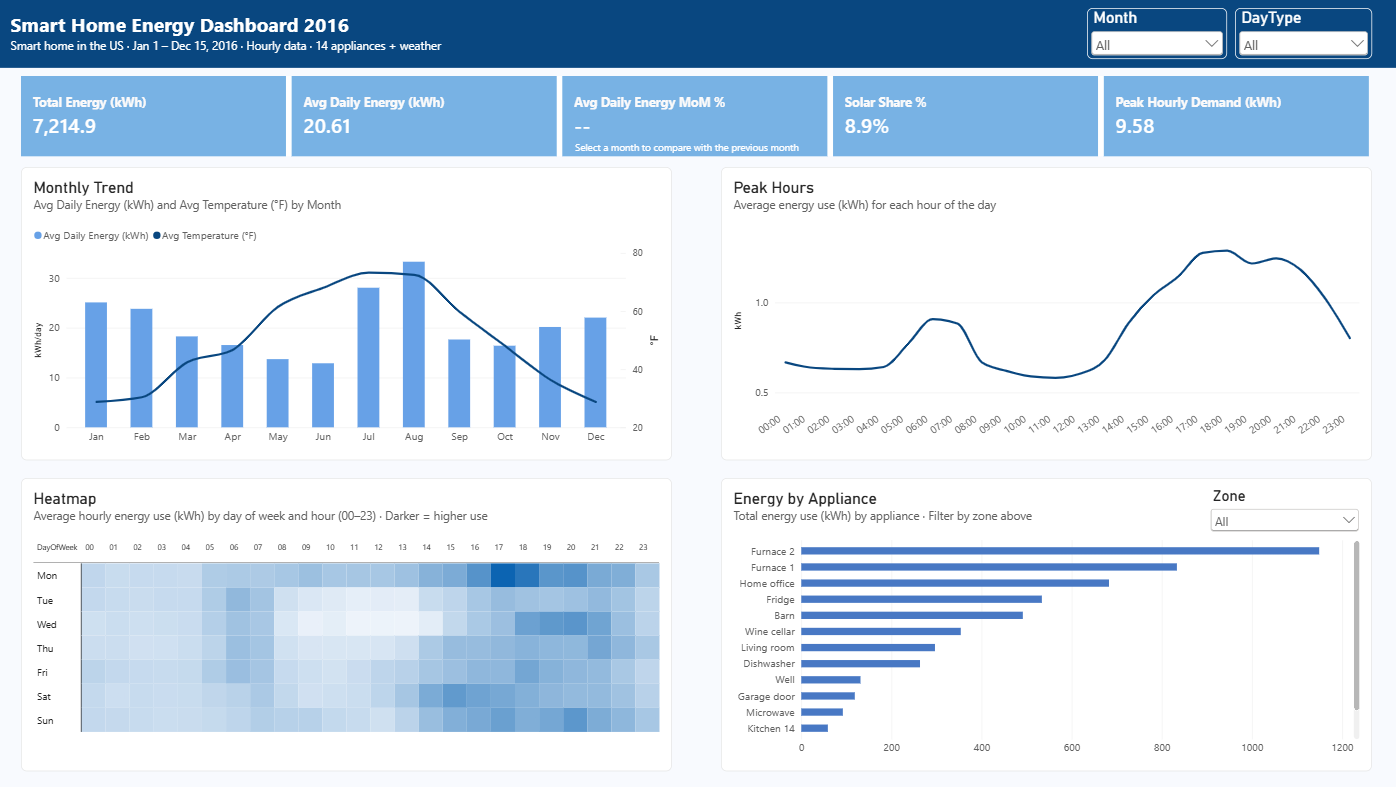

This screenshot's page, from the dashboard's own definition file:
{"tool":"powerbi","page":{"name":"Page 1","canvas":[1920,1080],"ordinal":0},"visuals":[{"type":"cardVisual","fields":{"Data":["_Measures.Total Energy (kWh)","_Measures.Avg Daily Energy (kWh)","_Measures.Avg Daily Energy MoM %","_Measures.Solar Share %","_Measures.Peak Hourly Demand (kWh)"]},"box":[34.3,104.3,1851.5,110.6],"z":0},{"type":"lineClusteredColumnComboChart","title":"Monthly Trend","fields":{"Category":["Dim_Date.Month"],"Y":["_Measures.Avg Daily Energy (kWh)"],"Y2":["_Measures.Avg Temperature (°F)"]},"box":[34.3,228.9,892.3,401.8],"z":1000},{"type":"lineChart","title":"Peak Hours","fields":{"Category":["Dim_Hour.HourLabel"],"Y":["_Measures.Avg Hourly Energy (kWh)"]},"box":[993.5,228.9,892.3,401.8],"z":2000},{"type":"pivotTable","title":"Heatmap","fields":{"Columns":["Dim_Hour.HourShort"],"Rows":["Dim_Date.DayOfWeek"],"Values":["_Measures.Avg Hourly Energy (kWh)"]},"box":[34.3,655.6,892.3,401.8],"z":3000},{"type":"clusteredBarChart","title":"Energy by Appliance","fields":{"Category":["Dim_Appliance.Appliance"],"Y":["_Measures.Appliance Energy (kWh)"]},"box":[993.5,655.6,892.3,401.8],"z":4000},{"type":"slicer","fields":{"Values":["Dim_Appliance.Zone"]},"box":[1660,668,213.3,79.4],"z":5000},{"type":"textbox","box":[0,0,1920,93.4],"z":6000},{"type":"slicer","fields":{"Values":["Dim_Date.Month"]},"box":[1494.9,10.9,191.5,70.1],"z":7000},{"type":"slicer","fields":{"Values":["Dim_Date.DayType"]},"box":[1697.3,10.9,188.4,70.1],"z":8000},{"type":"textbox","box":[794.2,191.5,334.8,23.4],"z":9000}]}

Visuals, with their boxes in screenshot pixels (x1, y1, x2, y2), scaled from the page's 1920x1080 canvas onto the 1396x787 screenshot:
cardVisual - _Measures.Total Energy (kWh) x _Measures.Avg Daily Energy (kWh): bbox(25, 76, 1371, 157)
"Monthly Trend" lineClusteredColumnComboChart: bbox(25, 167, 674, 460)
"Peak Hours" lineChart: bbox(722, 167, 1371, 460)
"Heatmap" pivotTable: bbox(25, 478, 674, 771)
"Energy by Appliance" clusteredBarChart: bbox(722, 478, 1371, 771)
slicer - Dim_Appliance.Zone: bbox(1207, 487, 1362, 545)
textbox: bbox(0, 0, 1395, 68)
slicer - Dim_Date.Month: bbox(1087, 8, 1226, 59)
slicer - Dim_Date.DayType: bbox(1234, 8, 1371, 59)
textbox: bbox(577, 140, 821, 157)
